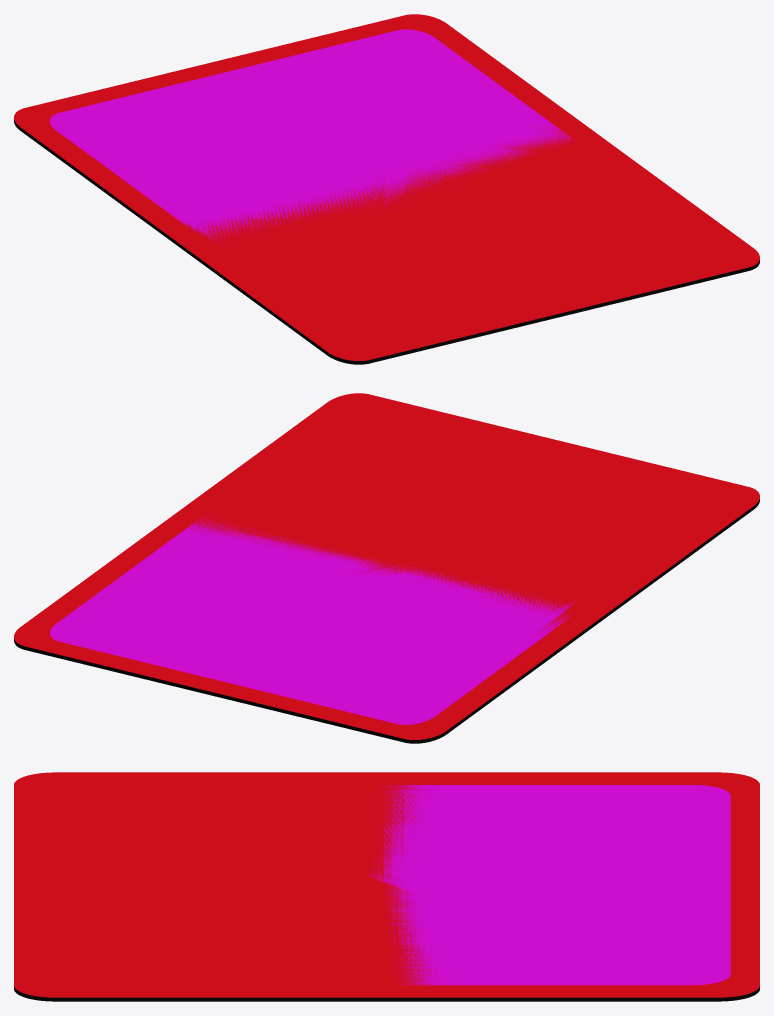
The model's file is card with border.fbx.
3 renders of one model, top to bottom at view 1: azimuth 30°, elevation 25°; view 2: azimuth 150°, elevation 25°; view 3: azimuth 270°, elevation 25°, orthographic. The views are drawn at different scales.
Visible parts, largest first — view 1: Border, Card; view 2: Border, Card; view 3: Border, Card.
Boxes of the visible parts, bbox=[...] form: Border: bbox=[14, 14, 759, 364]; Card: bbox=[50, 29, 574, 245]; Border: bbox=[14, 393, 759, 743]; Card: bbox=[50, 514, 579, 724]; Border: bbox=[14, 772, 759, 1001]; Card: bbox=[364, 785, 730, 985].
Size of the model in its own units: 500 by 4 by 700.
